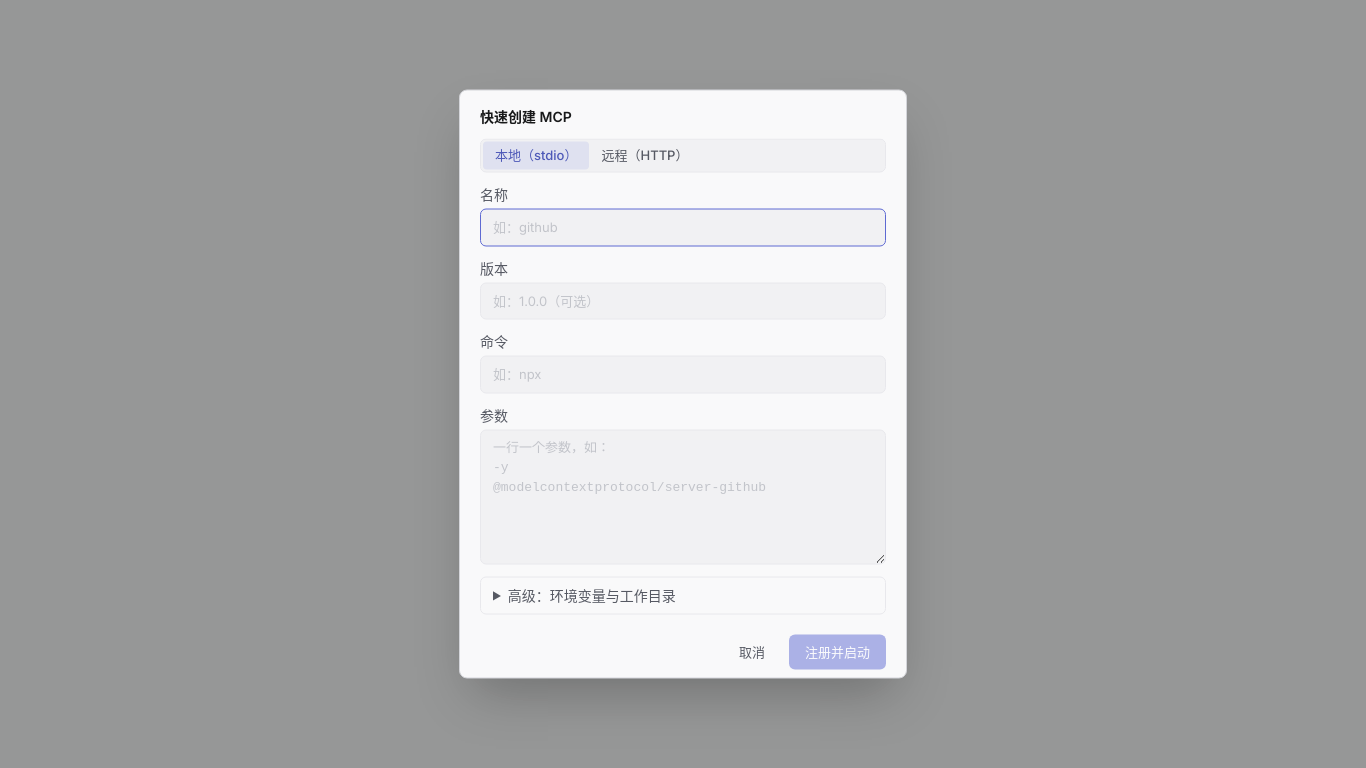
Test case: RegisterMcpDialog — 快速创建 MCP：传输二态 › 切到远程态：URL 出现、命令/参数隐藏
Click the radio button labelled "远程（HTTP）" at (645, 156), box [590,142,700,170]
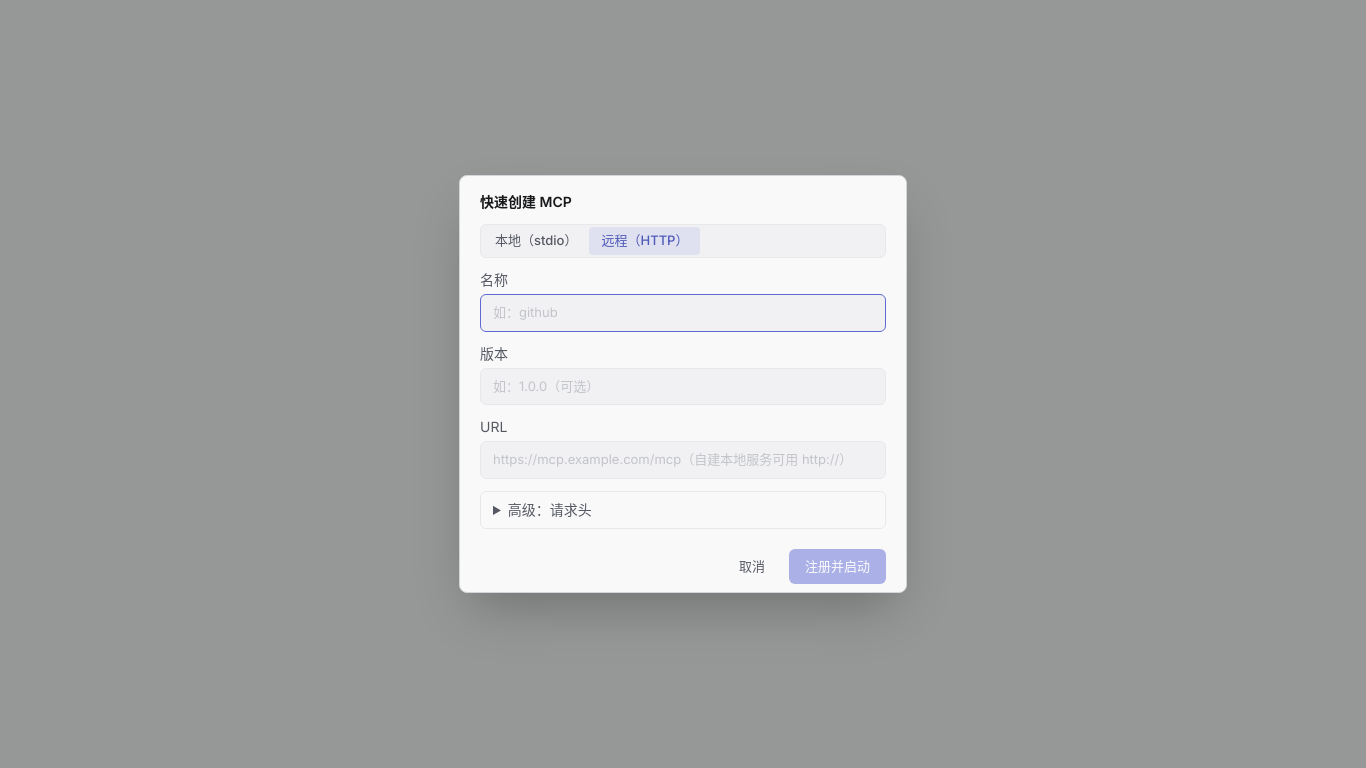
Expected: the field labelled "URL" is shown, [480,441,886,478]
Now the label labelled "命令" is gone
Now the label labelled "参数" is gone
